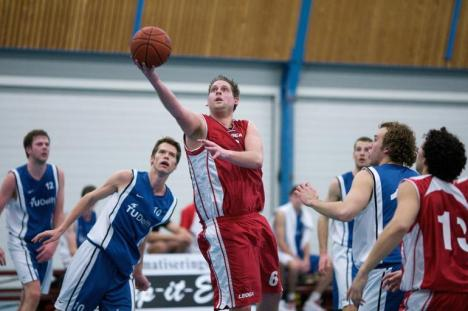basketball: (131, 25, 170, 68)
